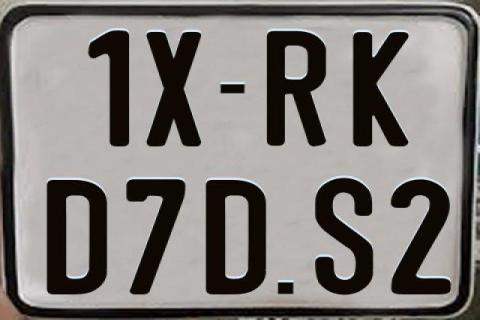0: (388, 180, 452, 296), (126, 178, 185, 294), (86, 30, 128, 148)
D: (46, 178, 111, 294), (206, 180, 266, 298)
K: (353, 31, 415, 147)
R: (264, 29, 323, 148)
S: (314, 176, 373, 294)
X: (146, 30, 206, 148)
